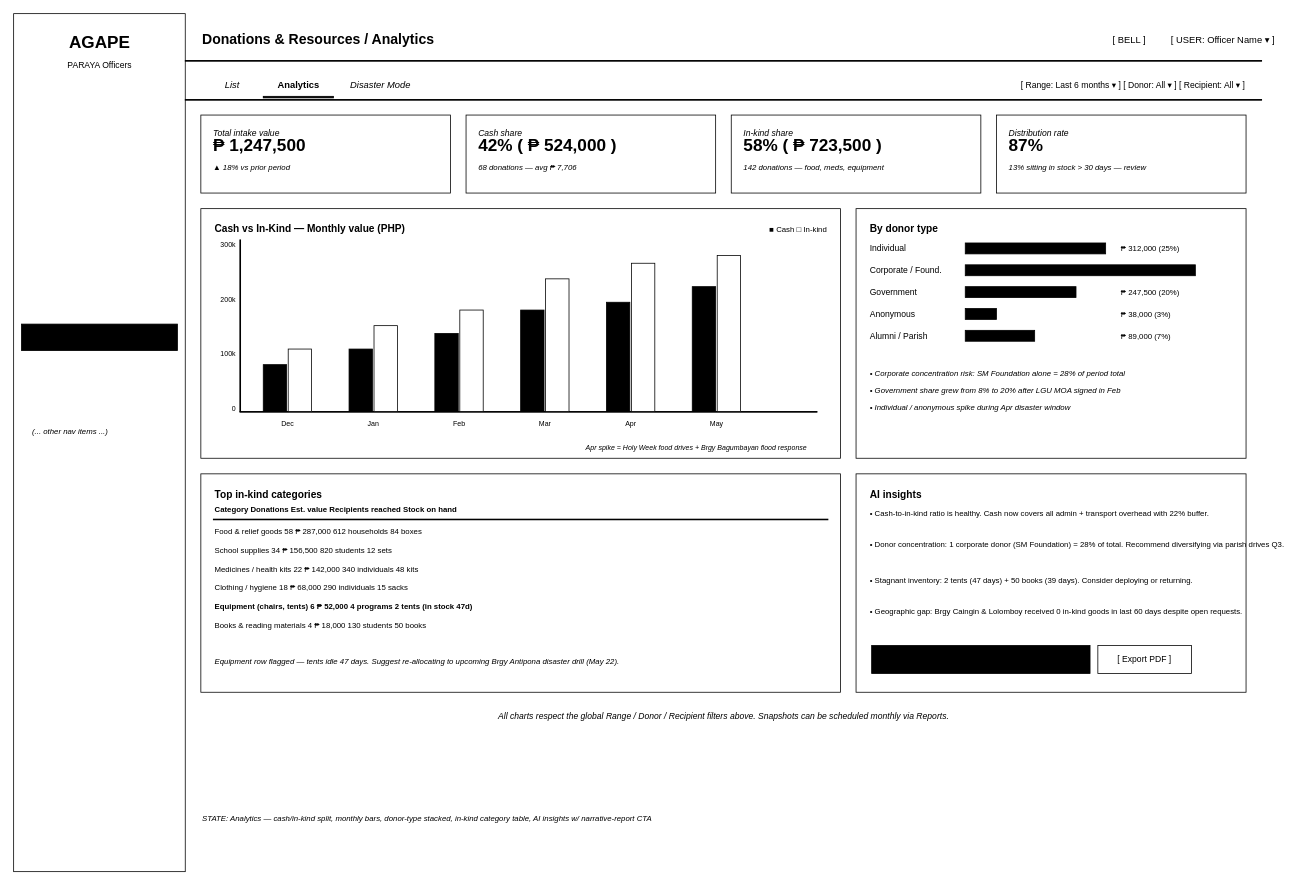
Some shapes in this 1307 by 885 pixel diagram are drawn without their labels. The box of each missing label's shape, as (x1, y1, x2, y2) in pixels:
[ Generate full AI narrative report ]: (871, 645, 1090, 674)
[x] Donations: (21, 323, 177, 351)
